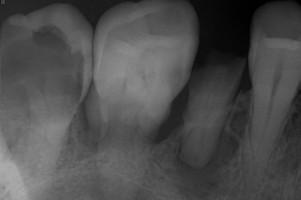Furcation Involvement: (174, 110, 247, 200)
